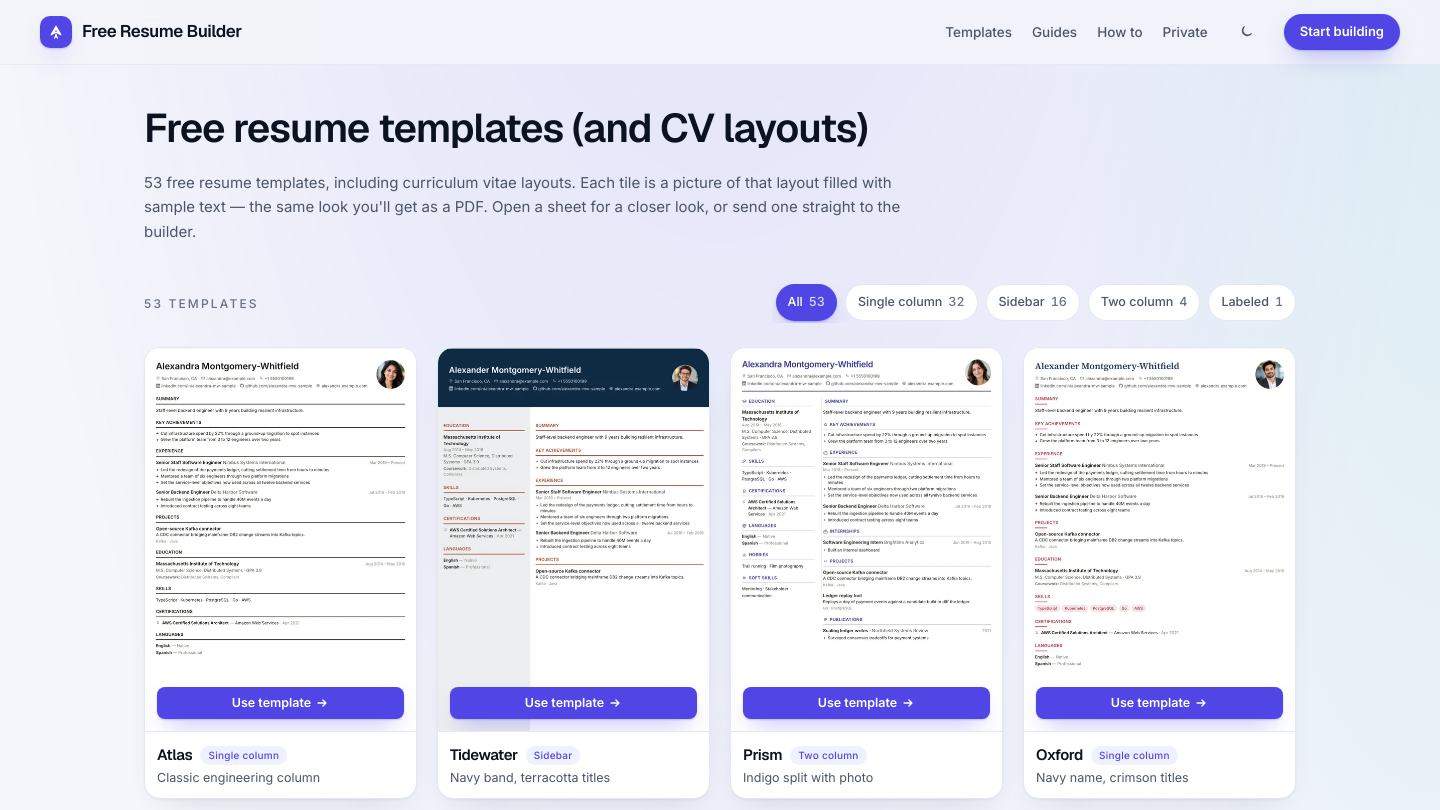
Scenario: templates gallery › filters the gallery by layout family
Click the button "Sidebar16" at (1033, 302), box [986, 284, 1080, 321]
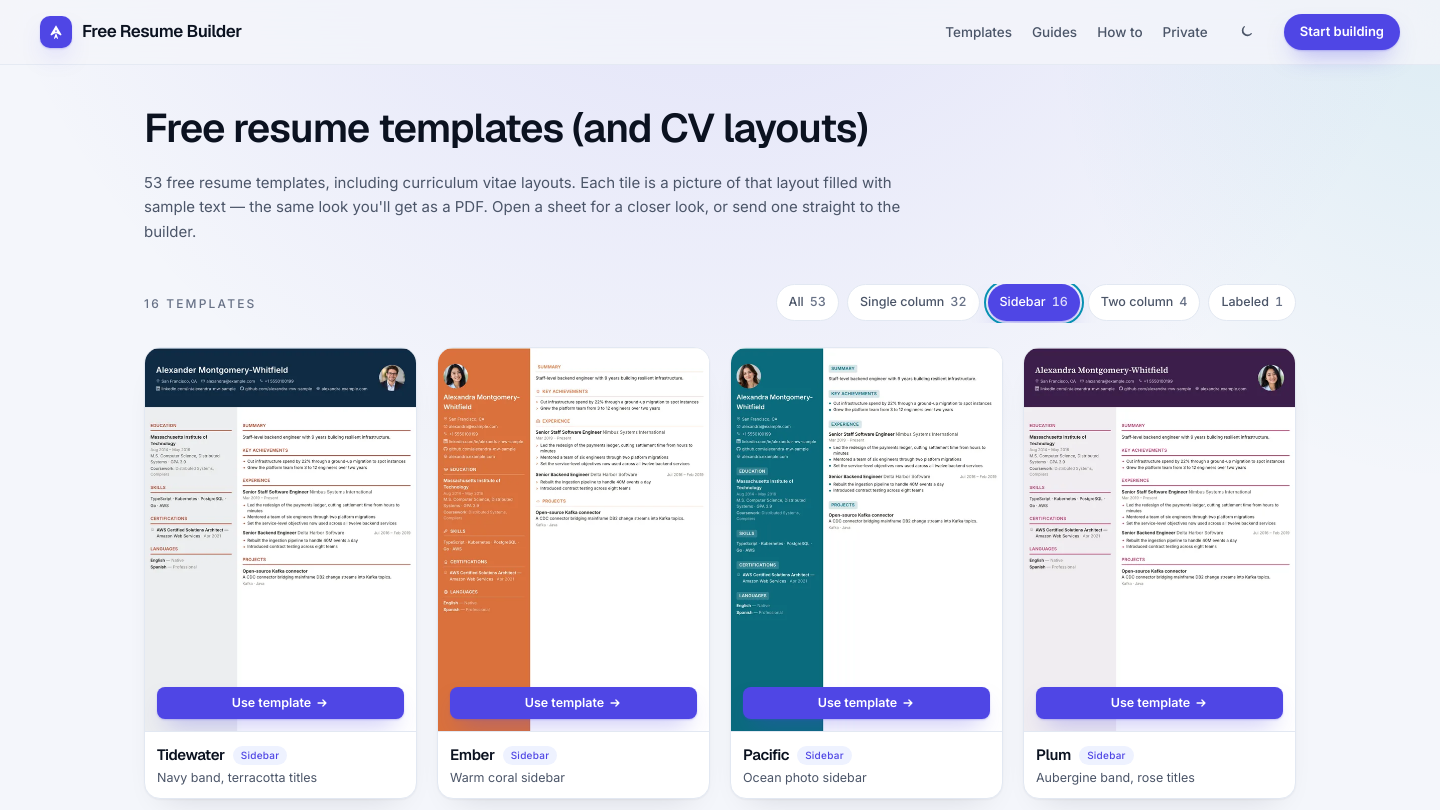
expect the heading "Ember" is shown: met, box [450, 744, 495, 767]
expect the heading "Atlas" is gone: met
